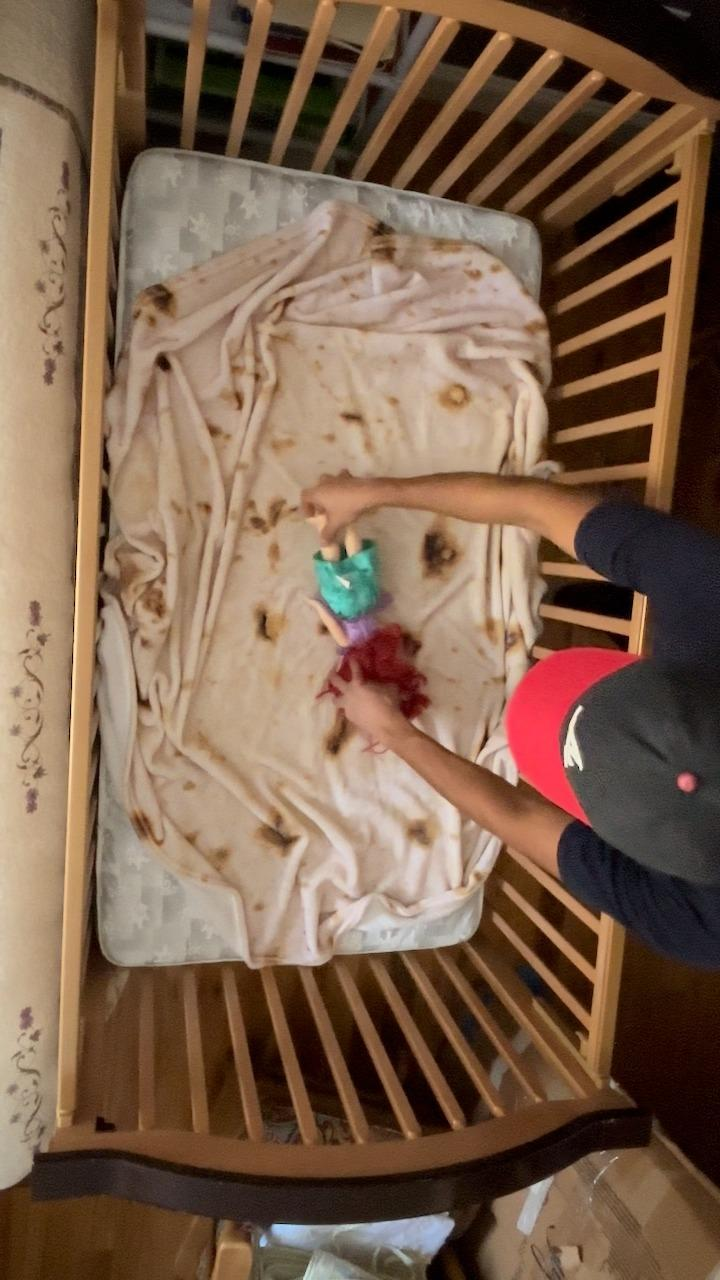baby: (300, 506, 422, 723)
